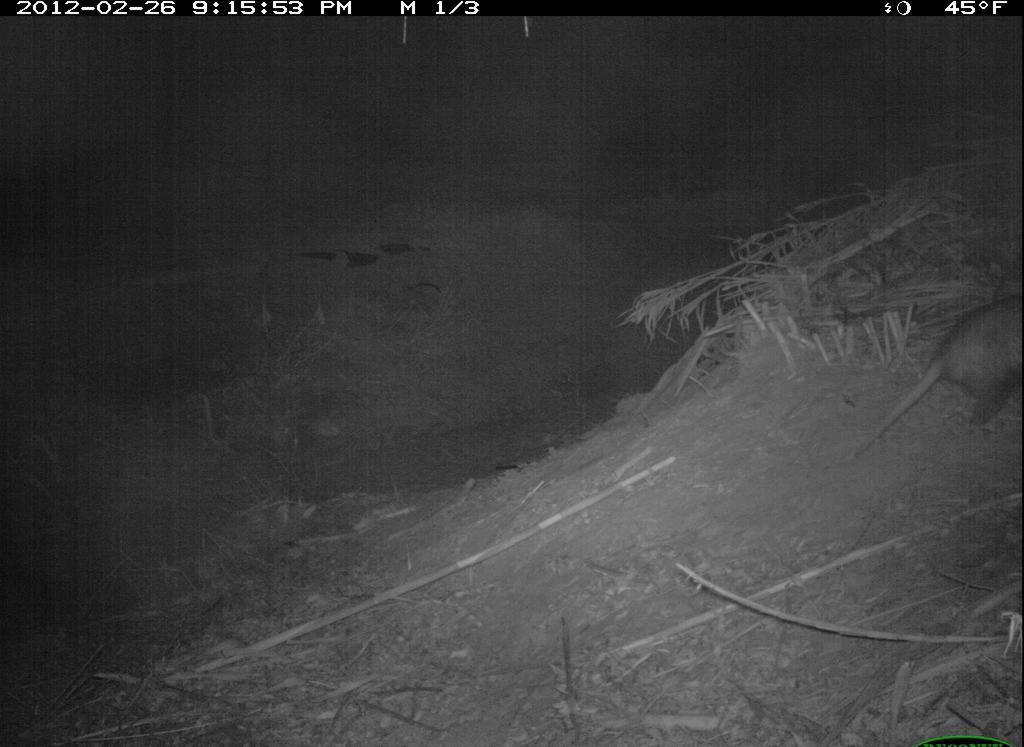opossum: (859, 281, 1022, 465)
